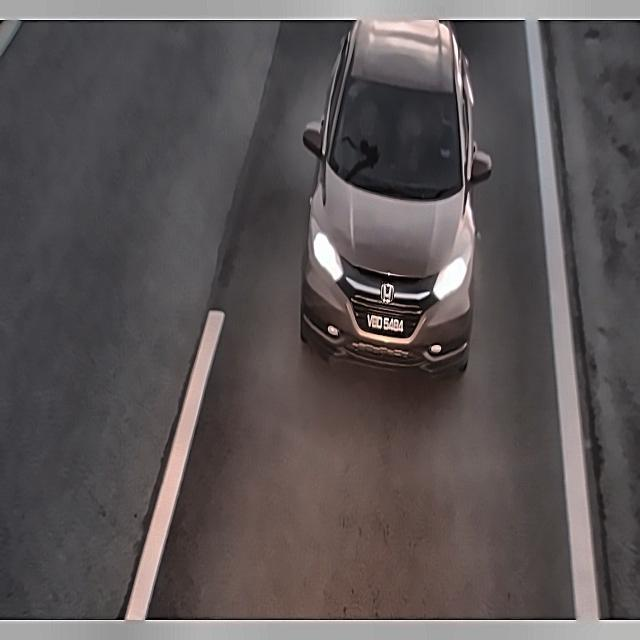car: (354, 299, 408, 341)
